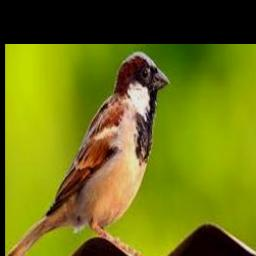Sparrow: (7, 51, 171, 256)
